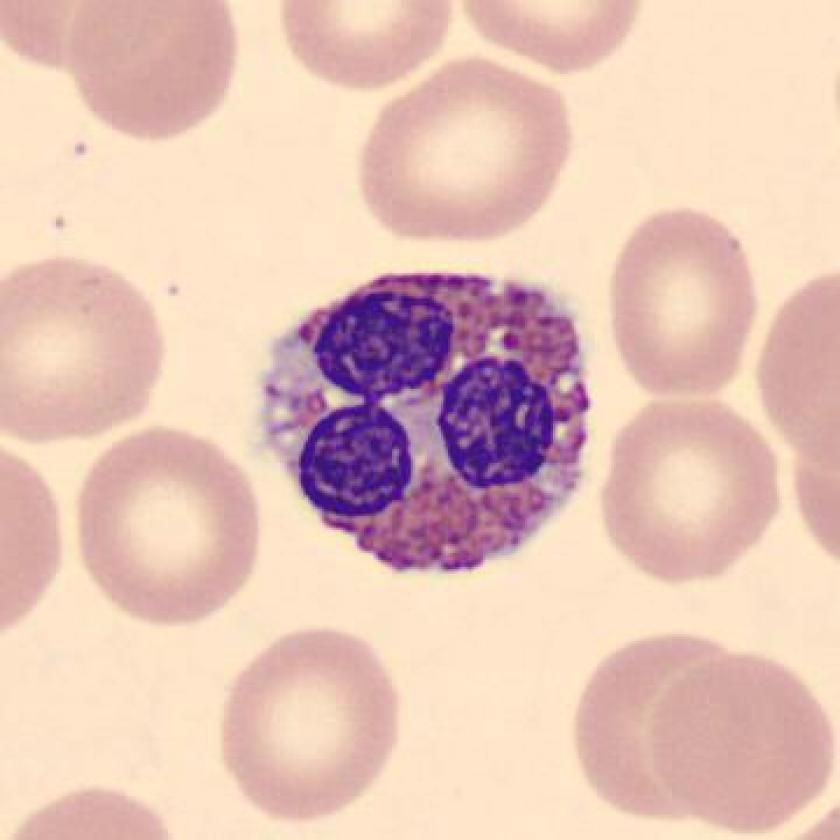eosinophil: (241, 251, 615, 598), (132, 408, 134, 411)
